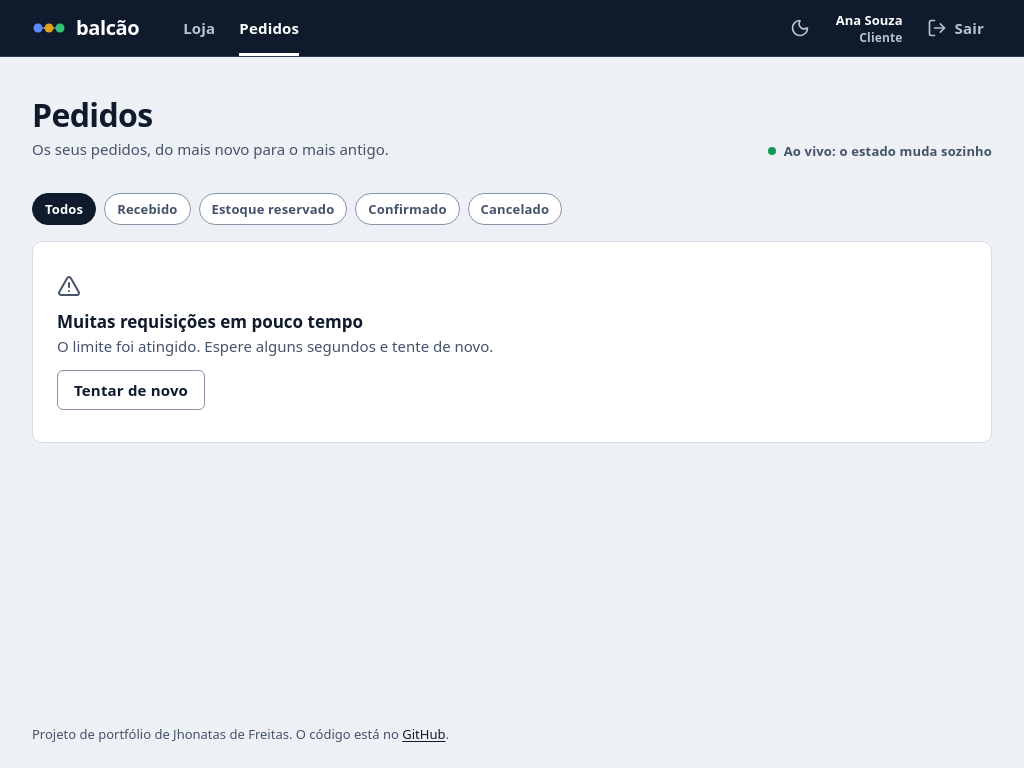
Scenario: error state, one per screen › ordersExplainTheRateLimit
Expected: the message shows "Muitas requisições em pouco tempo", [57, 310, 363, 333]
Click the button "Tentar de novo".
click(131, 390)  # box [57, 370, 205, 410]
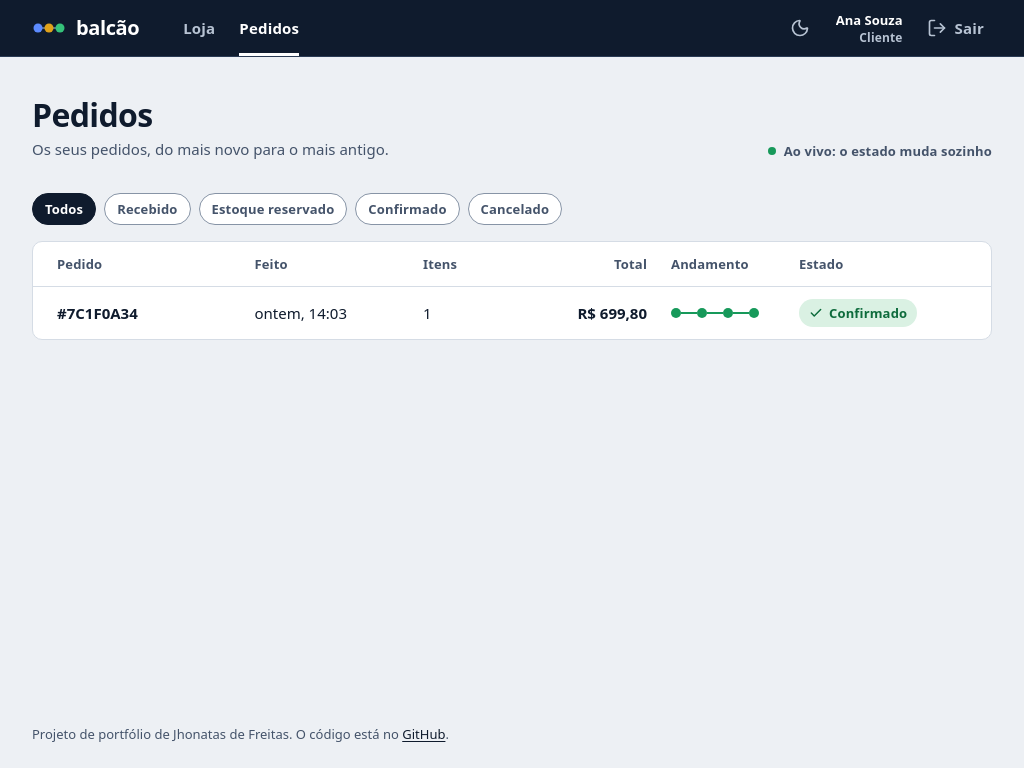
Expected: the text "#7C1F0A34" is shown, [57, 303, 138, 323]
